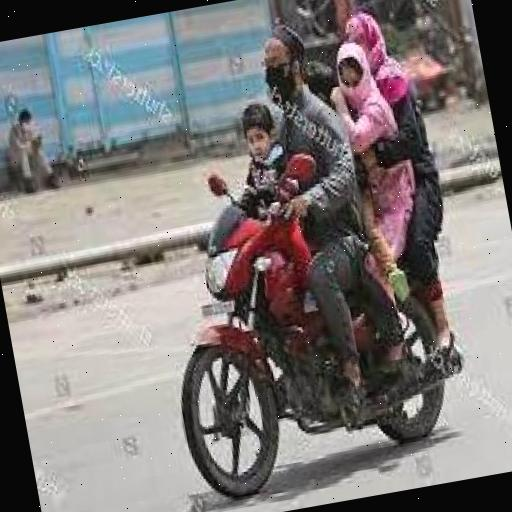no helmet: (208, 2, 342, 144)
triple riding: (106, 0, 502, 512)
